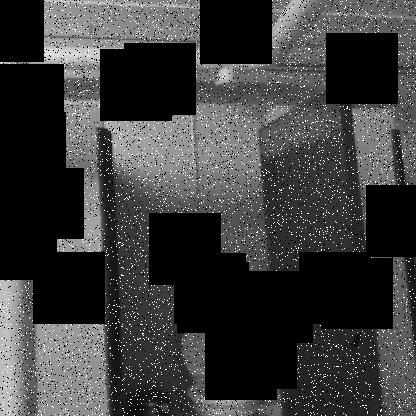Porte: (95, 84, 385, 416)
